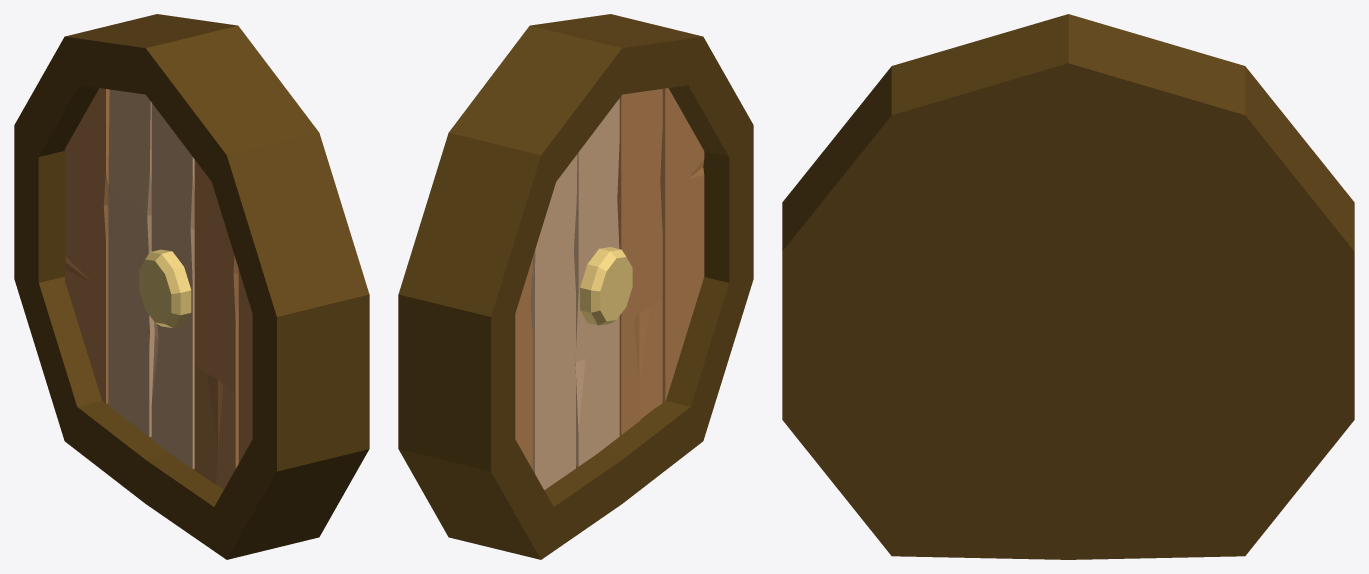
File: DOOR90.fbx
The picture shows the model from 3 angles, left to right: view 1: azimuth 30°, elevation 25°; view 2: azimuth 150°, elevation 25°; view 3: azimuth 270°, elevation 25°; orthographic projection. The views are drawn at different scales.
Parts seen in each view (by area): view 1: Cylinder.081; view 2: Cylinder.081; view 3: Cylinder.081.
Boxes of the visible parts, x1,y1,x2,y2 form: Cylinder.081: (14, 14, 369, 559); Cylinder.081: (398, 14, 753, 559); Cylinder.081: (782, 14, 1354, 559).
Bounding box in the file's own units: 161 × 758 × 791.
